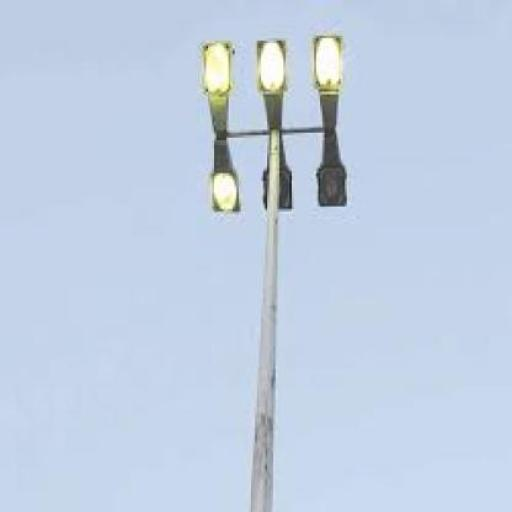street light: (198, 30, 349, 510)
